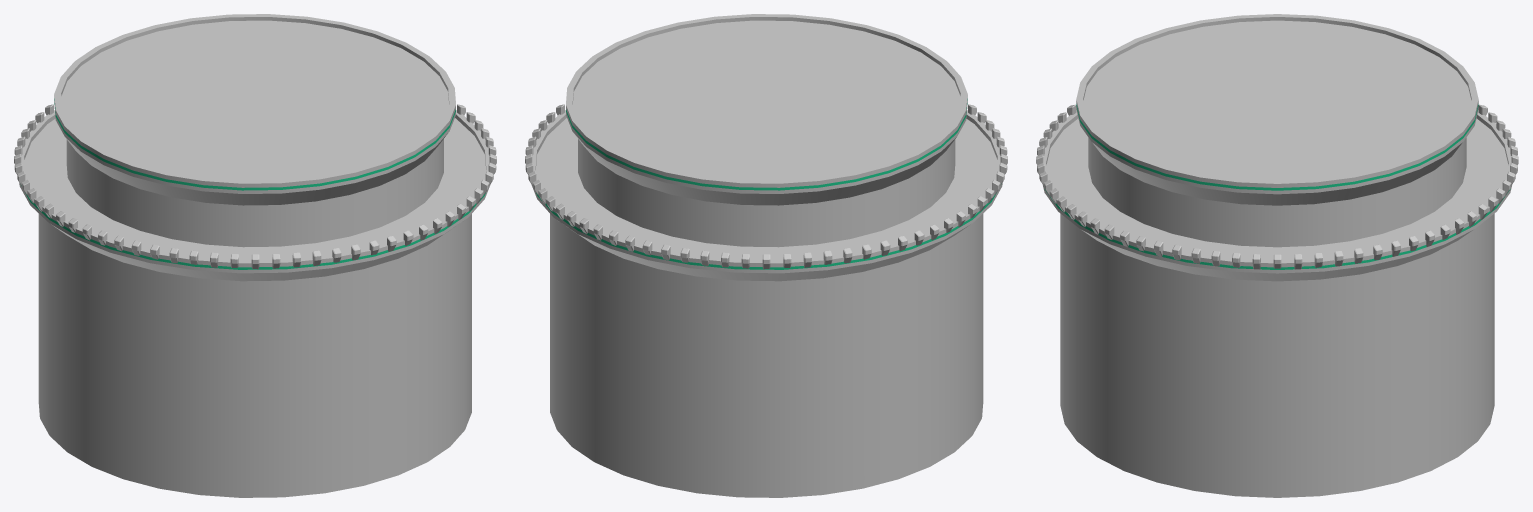
The model's file is Tower_Mega.fbx.
The picture shows the model from 3 angles, left to right: view 1: azimuth 30°, elevation 25°; view 2: azimuth 150°, elevation 25°; view 3: azimuth 270°, elevation 25°; orthographic projection.
Parts seen in each view (by area): view 1: tower_mega_base; view 2: tower_mega_base; view 3: tower_mega_base.
Part boxes in pixels (<box>): tower_mega_base: <box>14,14,496,497</box>; tower_mega_base: <box>525,14,1007,497</box>; tower_mega_base: <box>1036,14,1518,497</box>.
Size of the model in its own units: 1566 by 1100 by 1566.
